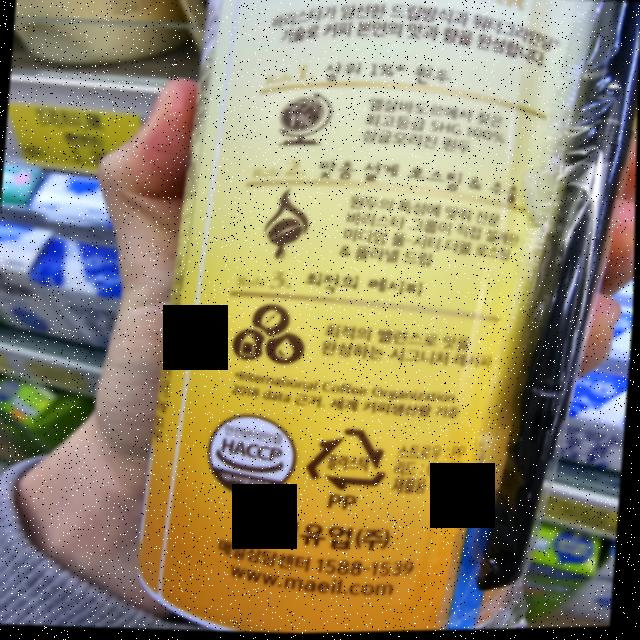Plastic: (304, 425, 393, 495)
